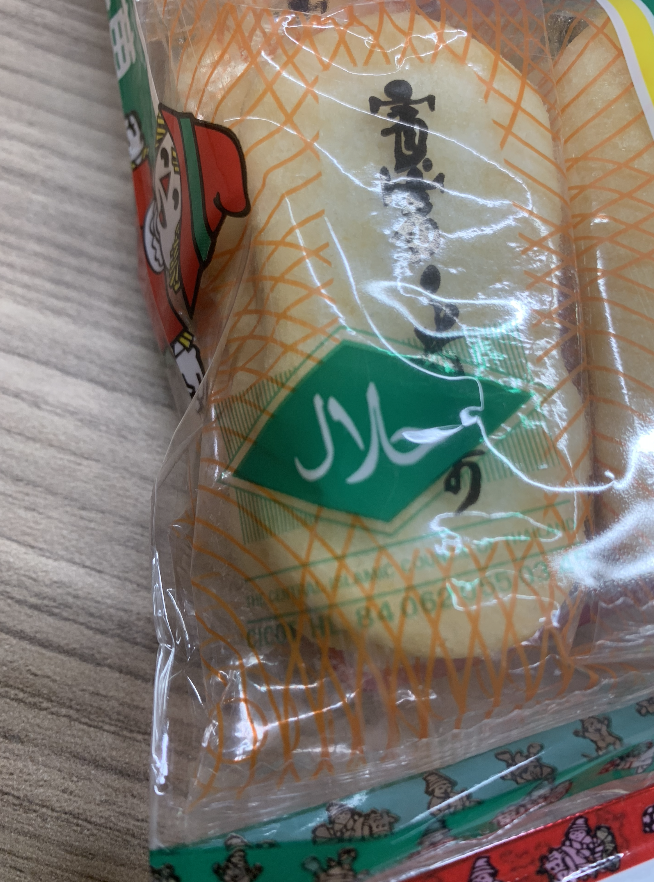halal: (289, 377, 455, 479)
